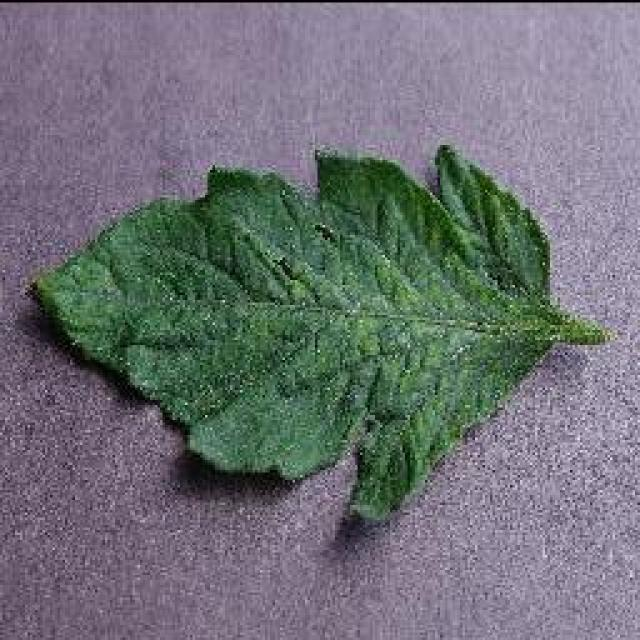Tomato___Tomato_mosaic_virus: (38, 145, 608, 518)
